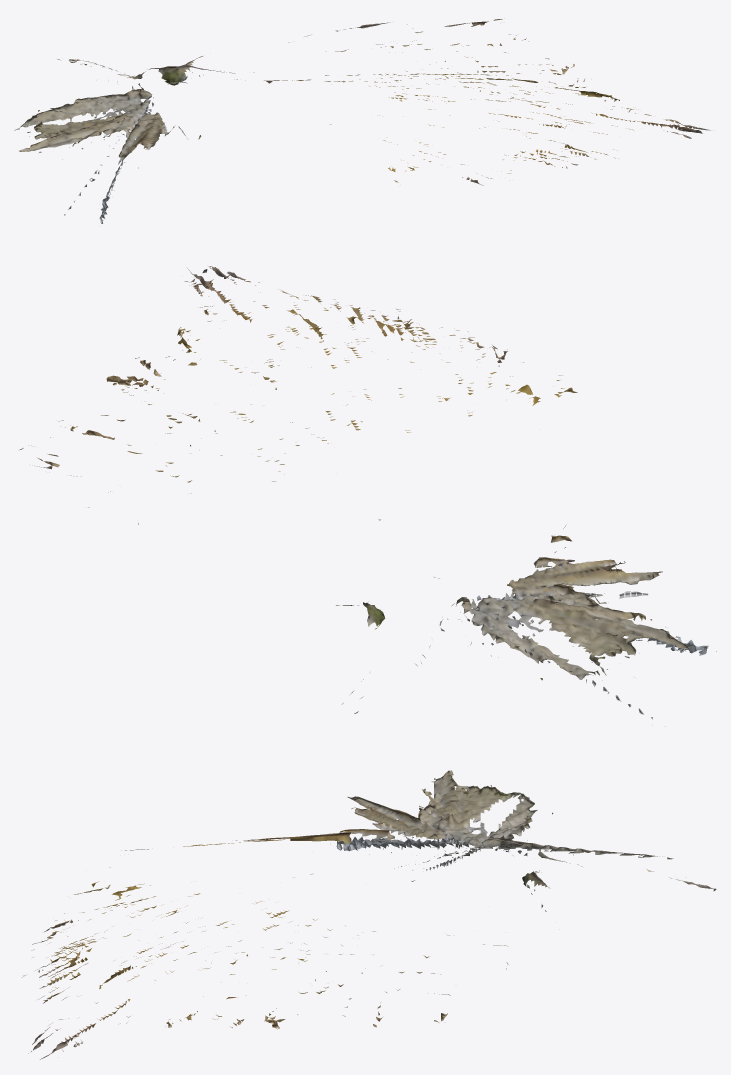
File: world-1769727718787.glb
3 renders of one model, top to bottom at view 1: azimuth 30°, elevation 25°; view 2: azimuth 150°, elevation 25°; view 3: azimuth 270°, elevation 25°, orthographic. The views are drawn at different scales.
Parts seen in each view (by area): view 1: world; view 2: world; view 3: world.
Part boxes in pixels (x1=…): world: x1=14, y1=19, x2=713, y2=226; world: x1=19, y1=266, x2=716, y2=726; world: x1=22, y1=770, x2=716, y2=1059.
Size of the model in its own units: 59.43 by 12.01 by 57.03.
